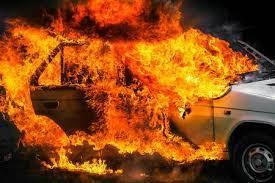fire: (0, 0, 258, 175)
